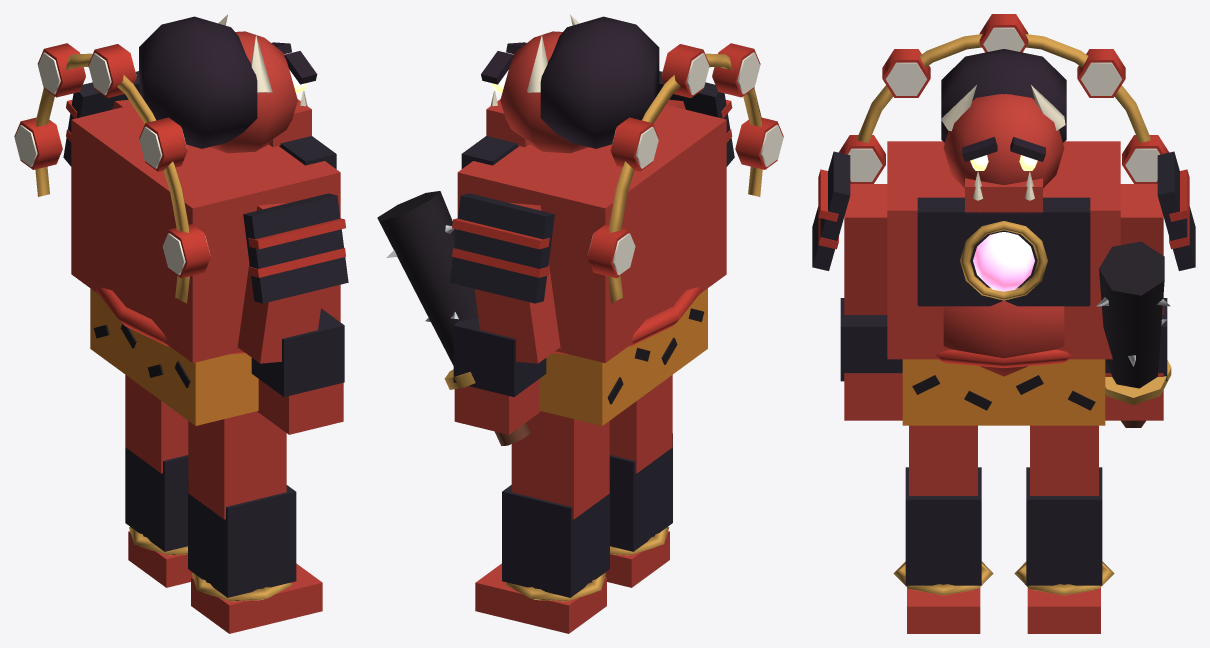
Rendered from enemy_boss.glb.
The picture shows the model from 3 angles, left to right: view 1: azimuth 30°, elevation 25°; view 2: azimuth 150°, elevation 25°; view 3: azimuth 270°, elevation 25°; orthographic projection. The views are drawn at different scales.
Parts seen in each view (by area): view 1: torso, hair, suneate_l, loin_tiger, leg_l_mesh, sode_l, suneate_r, kote_l, arm_l_mesh, foot_l, leg_r_mesh, head (+23 smaller); view 2: torso, hair, suneate_r, loin_tiger, leg_r_mesh, kanabo_head, sode_r, suneate_l, kote_r, arm_r_mesh, foot_r, head (+23 smaller); view 3: torso, do_plate, loin_tiger, kanabo_head, head, suneate_l, suneate_r, belly, arm_l_mesh, hair, leg_l_mesh, leg_r_mesh (+33 smaller).
Part boxes in pixels (left/top/right/bottom): torso: left=71, top=105, right=340, bottom=362; hair: left=139, top=16, right=257, bottom=148; suneate_l: left=188, top=479, right=296, bottom=597; loin_tiger: left=90, top=288, right=258, bottom=425; leg_l_mesh: left=188, top=411, right=286, bottom=519; sode_l: left=243, top=193, right=348, bottom=303; suneate_r: left=125, top=447, right=188, bottom=551; kote_l: left=251, top=308, right=344, bottom=396; arm_l_mesh: left=237, top=202, right=323, bottom=363; foot_l: left=191, top=563, right=322, bottom=633; leg_r_mesh: left=125, top=375, right=188, bottom=473; head: left=209, top=31, right=297, bottom=153; torso: left=457, top=105, right=726, bottom=362; hair: left=540, top=16, right=659, bottom=148; suneate_r: left=502, top=479, right=609, bottom=597; loin_tiger: left=539, top=288, right=707, bottom=425; leg_r_mesh: left=511, top=411, right=609, bottom=519; kanabo_head: left=377, top=191, right=478, bottom=365; sode_r: left=449, top=193, right=554, bottom=303; suneate_l: left=609, top=433, right=672, bottom=551; kote_r: left=453, top=318, right=546, bottom=396; arm_r_mesh: left=474, top=202, right=560, bottom=363; foot_r: left=475, top=563, right=606, bottom=633; head: left=500, top=31, right=588, bottom=153; torso: left=887, top=141, right=1120, bottom=359; do_plate: left=917, top=197, right=1090, bottom=306; loin_tiger: left=902, top=359, right=1105, bottom=425; kanabo_head: left=1099, top=241, right=1164, bottom=388; head: left=943, top=94, right=1064, bottom=188; suneate_l: left=905, top=467, right=981, bottom=585; suneate_r: left=1026, top=467, right=1102, bottom=585; belly: left=943, top=300, right=1064, bottom=376; arm_l_mesh: left=844, top=184, right=887, bottom=314; hair: left=941, top=49, right=1066, bottom=142; leg_l_mesh: left=909, top=425, right=977, bottom=495; leg_r_mesh: left=1030, top=425, right=1098, bottom=495.
Bounding box in the file's own units: 0.3215 × 0.6975 × 0.4441.
